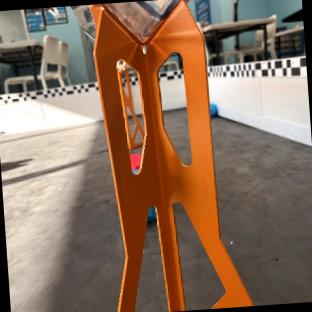V5_RED: (130, 153, 140, 172)
